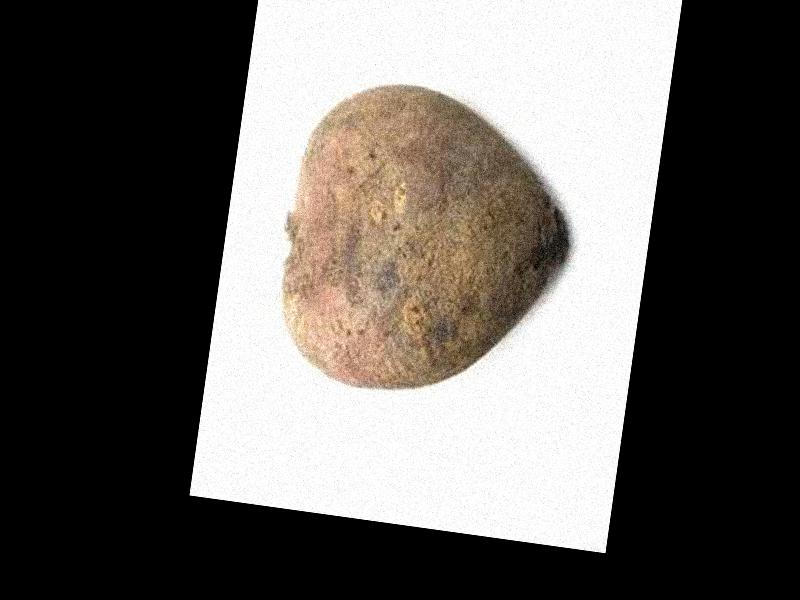Beet: (267, 69, 586, 414)
